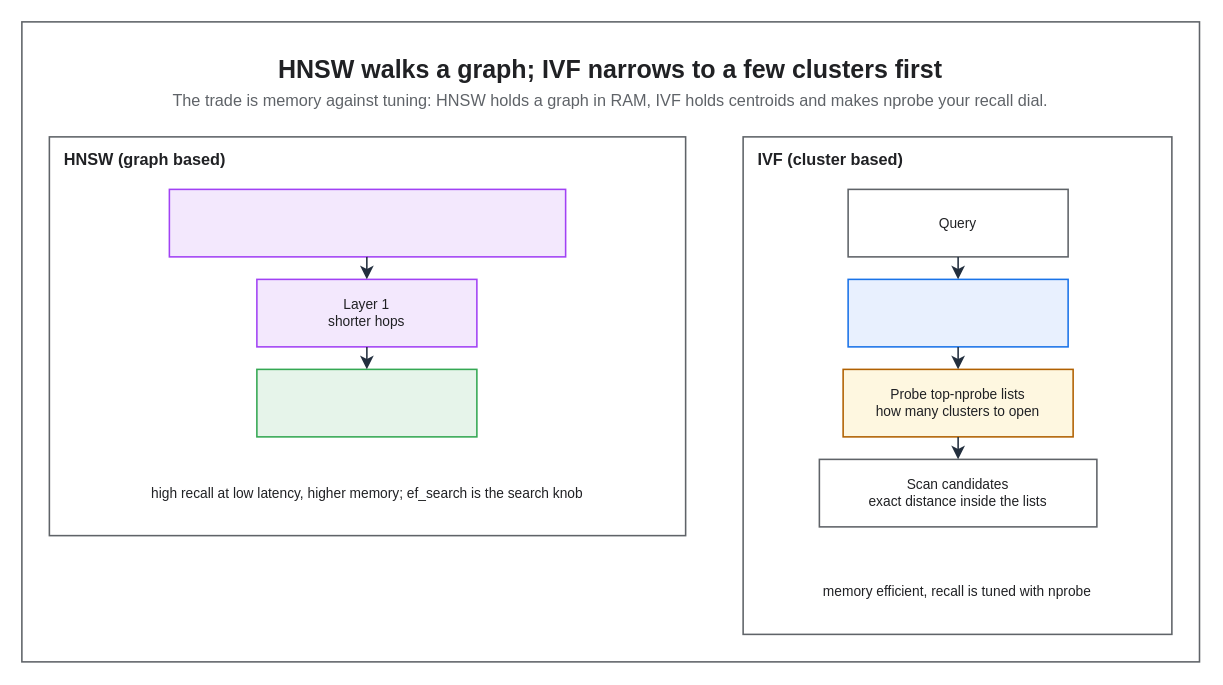
The diagram is 1223 pixels wide and 685 high, and some of its shapes have lost their labels. Each missing label, with the centre of its shape:
Centroids coarse quantizer: the point at 957,312
Layer 0 (all vectors) the full graph: the point at 366,402
Layer 2 (sparse) long hops; ef_search sets how wide the walk is: the point at 367,222
